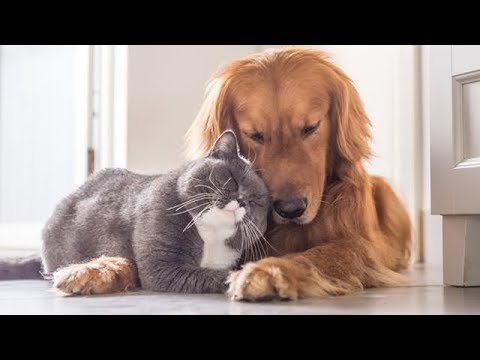cat: (49, 132, 272, 296)
dog: (190, 49, 417, 292)
